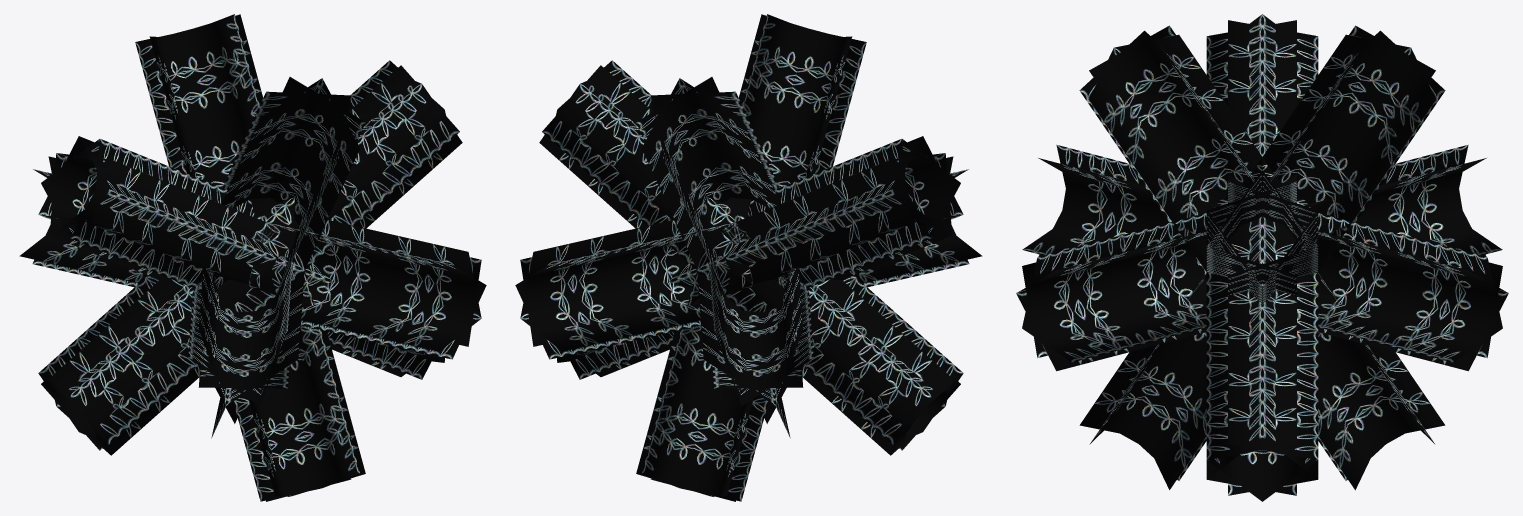
The model's file is GreatDodecahemidodecacron14.gltf.
3 views of the same model, side by side, from view 1: azimuth 30°, elevation 25°; view 2: azimuth 150°, elevation 25°; view 3: azimuth 270°, elevation 25° (orthographic). The views are drawn at different scales.
Visible parts, largest first — view 1: GreatDodecahemidodecacron1; view 2: GreatDodecahemidodecacron1; view 3: GreatDodecahemidodecacron1.
Part boxes in pixels (x1,y1,x2,y2): GreatDodecahemidodecacron1: [19, 14, 486, 501]; GreatDodecahemidodecacron1: [515, 14, 982, 501]; GreatDodecahemidodecacron1: [1016, 14, 1508, 501].
Bounding box in the file's own units: 13.61 × 13.61 × 13.61.
Materials: 1 (1 with a texture image).
